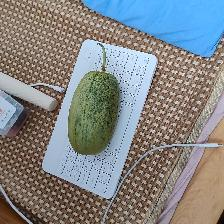gua: (73, 76, 115, 153)
